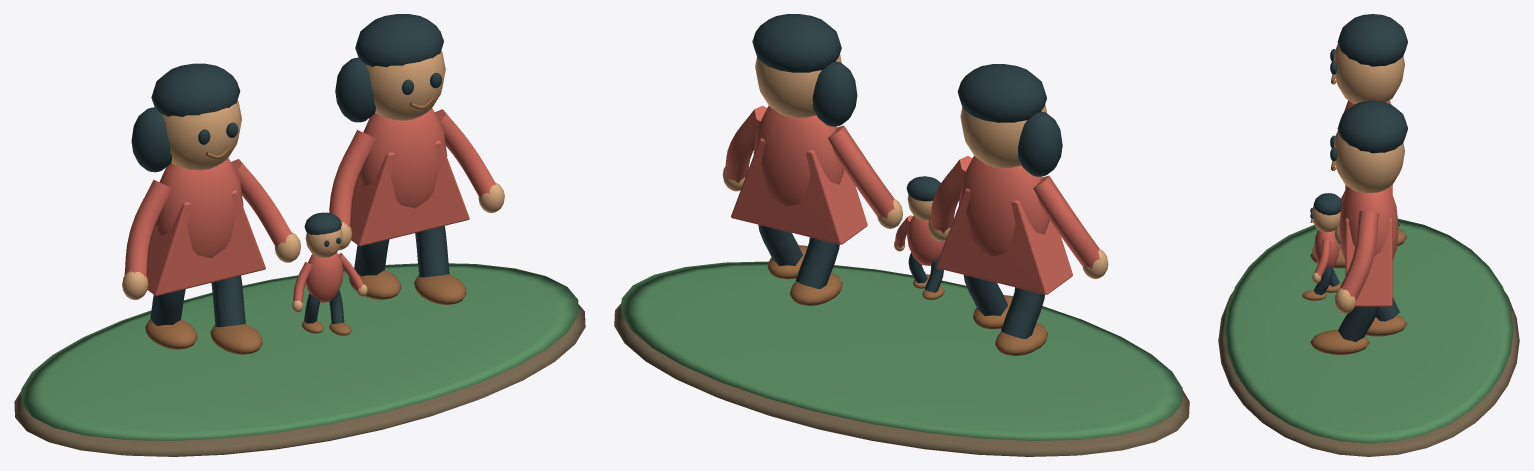
Rendered from mother-call.glb.
3 renders of one model, left to right at view 1: azimuth 30°, elevation 25°; view 2: azimuth 150°, elevation 25°; view 3: azimuth 270°, elevation 25°, orthographic. The views are drawn at different scales.
Parts seen in each view (by area): view 1: mother-call_surface_01, mother-call_surface_05, mother-call_surface_03, mother-call_surface_00, mother-call_surface_02, mother-call_surface_04; view 2: mother-call_surface_01, mother-call_surface_05, mother-call_surface_03, mother-call_surface_00, mother-call_surface_02, mother-call_surface_04; view 3: mother-call_surface_01, mother-call_surface_03, mother-call_surface_05, mother-call_surface_02, mother-call_surface_00, mother-call_surface_04.
Boxes of the visible parts, left/top/right/bottom form: mother-call_surface_01: left=21, top=263, right=578, bottom=440; mother-call_surface_05: left=124, top=108, right=495, bottom=302; mother-call_surface_03: left=131, top=14, right=449, bottom=326; mother-call_surface_00: left=14, top=304, right=585, bottom=456; mother-call_surface_02: left=122, top=50, right=504, bottom=312; mother-call_surface_04: left=145, top=97, right=466, bottom=354; mother-call_surface_01: left=621, top=261, right=1182, bottom=440; mother-call_surface_05: left=725, top=105, right=1099, bottom=294; mother-call_surface_03: left=752, top=14, right=1062, bottom=338; mother-call_surface_00: left=614, top=303, right=1189, bottom=456; mother-call_surface_02: left=722, top=54, right=1108, bottom=278; mother-call_surface_04: left=767, top=245, right=1048, bottom=355; mother-call_surface_01: left=1224, top=218, right=1513, bottom=443; mother-call_surface_03: left=1310, top=14, right=1407, bottom=341; mother-call_surface_05: left=1314, top=100, right=1398, bottom=306; mother-call_surface_02: left=1312, top=44, right=1404, bottom=313; mother-call_surface_00: left=1218, top=291, right=1519, bottom=456; mother-call_surface_04: left=1302, top=74, right=1407, bottom=354.
Size of the model in its own units: 4.56 by 2.68 by 2.5.
